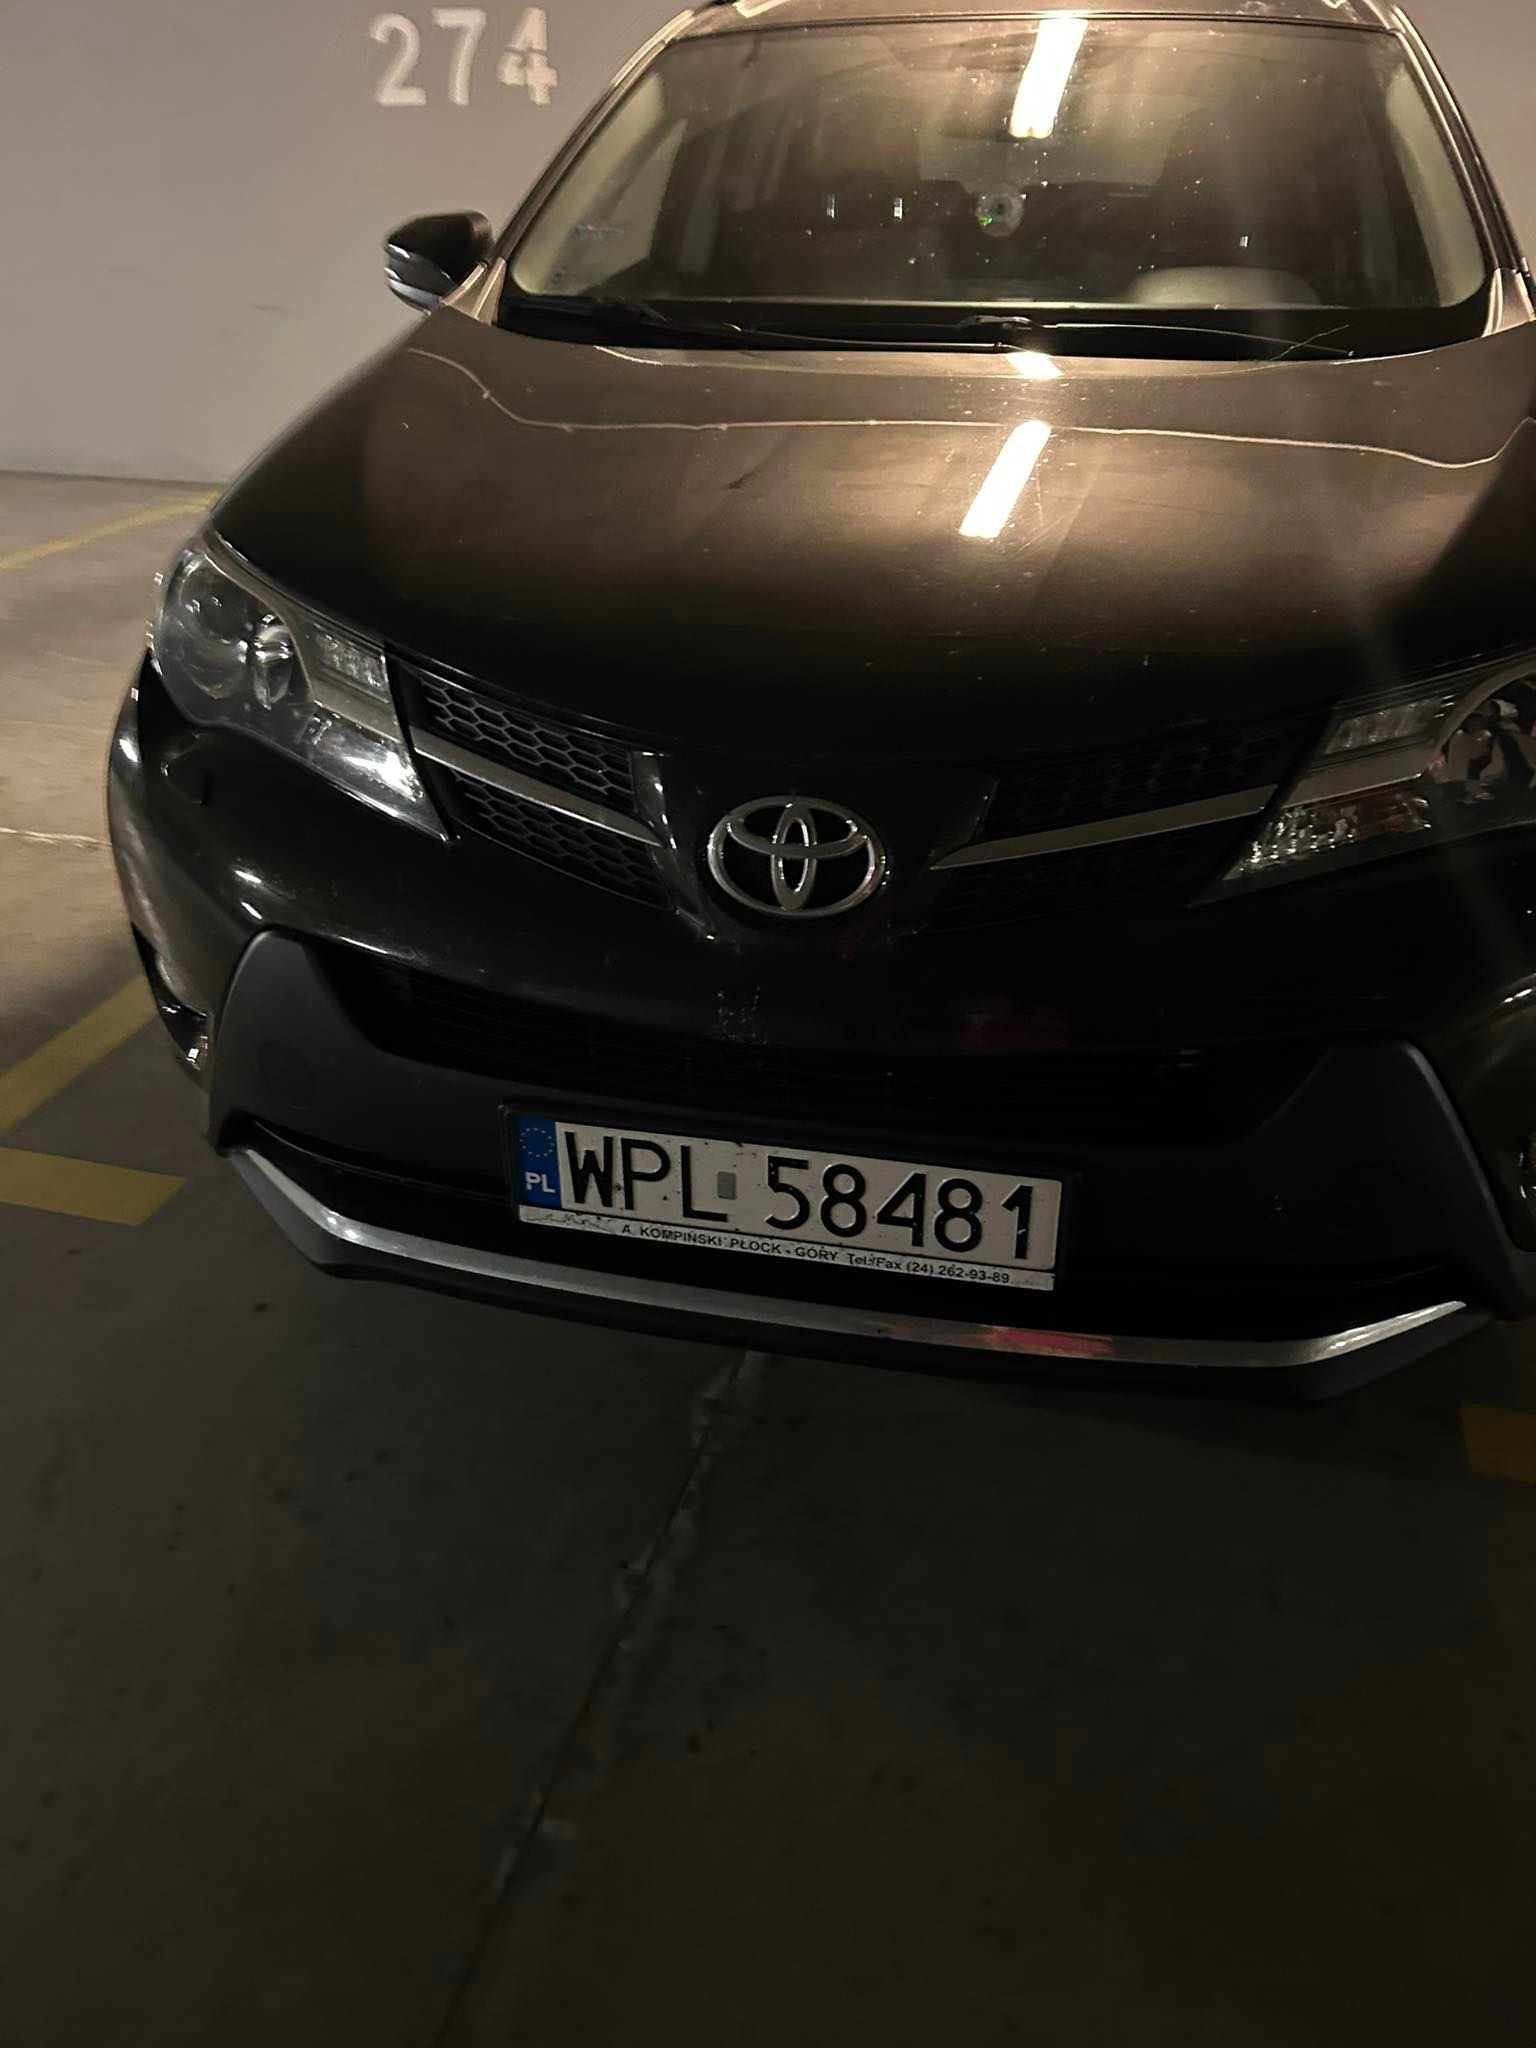number_plate: (510, 1108, 1063, 1297)
